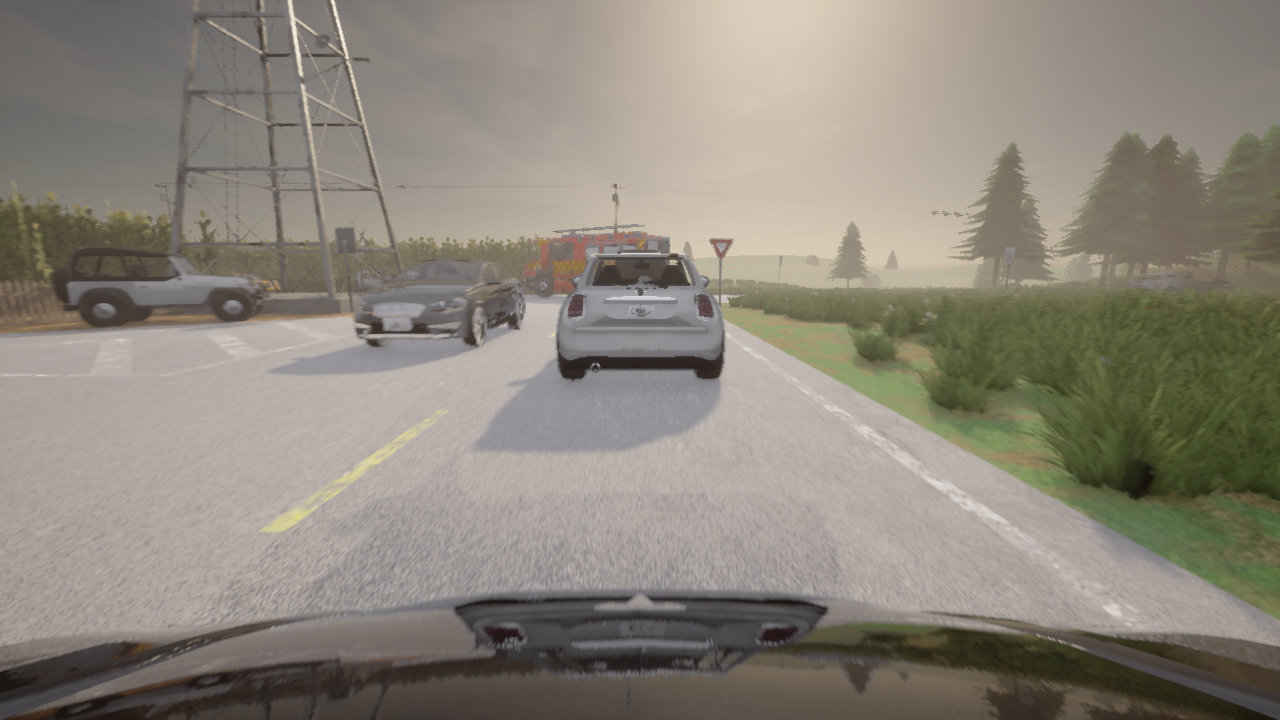cyclist: (0, 588, 1279, 719), (556, 252, 724, 379), (52, 247, 269, 326), (353, 258, 524, 347), (523, 223, 669, 297), (1129, 271, 1235, 295), (217, 270, 280, 291), (354, 268, 398, 291), (618, 250, 662, 251)
